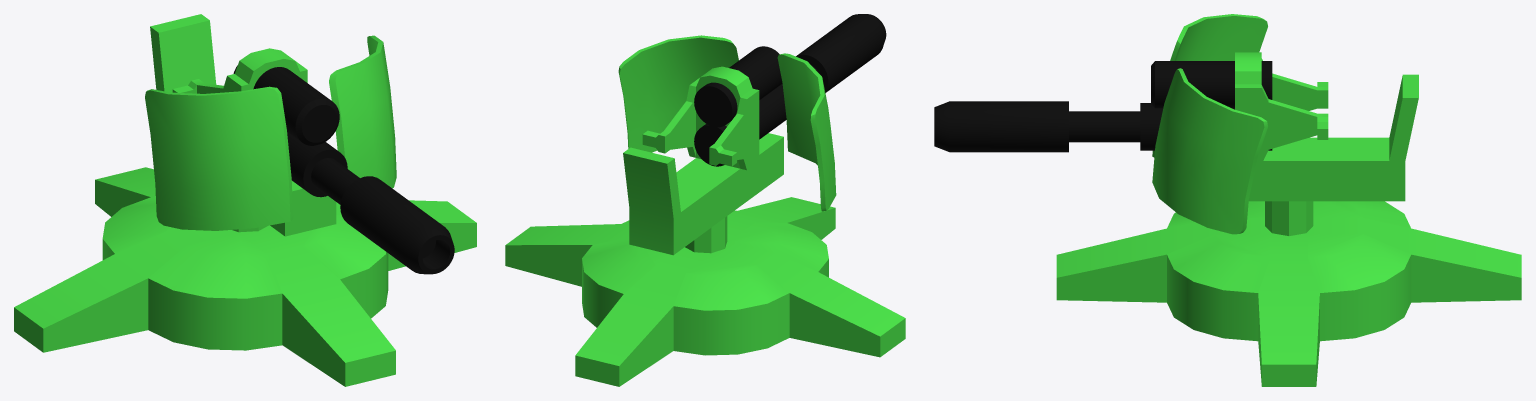
The model's file is Turret1.fbx.
3 views of the same model, side by side, from view 1: azimuth 30°, elevation 25°; view 2: azimuth 150°, elevation 25°; view 3: azimuth 270°, elevation 25° (orthographic). The views are drawn at different scales.
Parts seen in each view (by area): view 1: Turret1Canon, Turret1; view 2: Turret1, Turret1Canon; view 3: Turret1Canon, Turret1.
Boxes of the visible parts, x1,y1,x2,y2 form: Turret1Canon: (145,14,454,274); Turret1: (14,167,476,386); Turret1: (505,197,905,386); Turret1Canon: (618,14,886,255); Turret1Canon: (934,14,1418,235); Turret1: (1056,201,1521,386).
Bounding box in the file's own units: 73.48 × 41.2 × 92.79.
